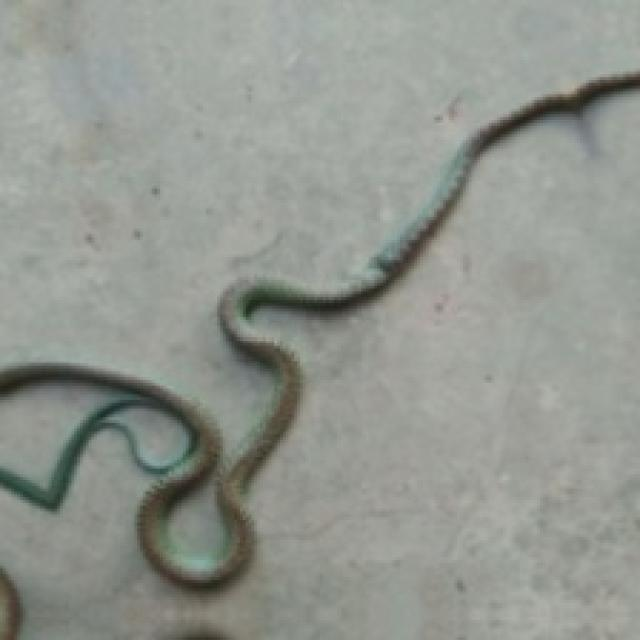paradise tree snake: (137, 74, 637, 586), (283, 251, 637, 637)
